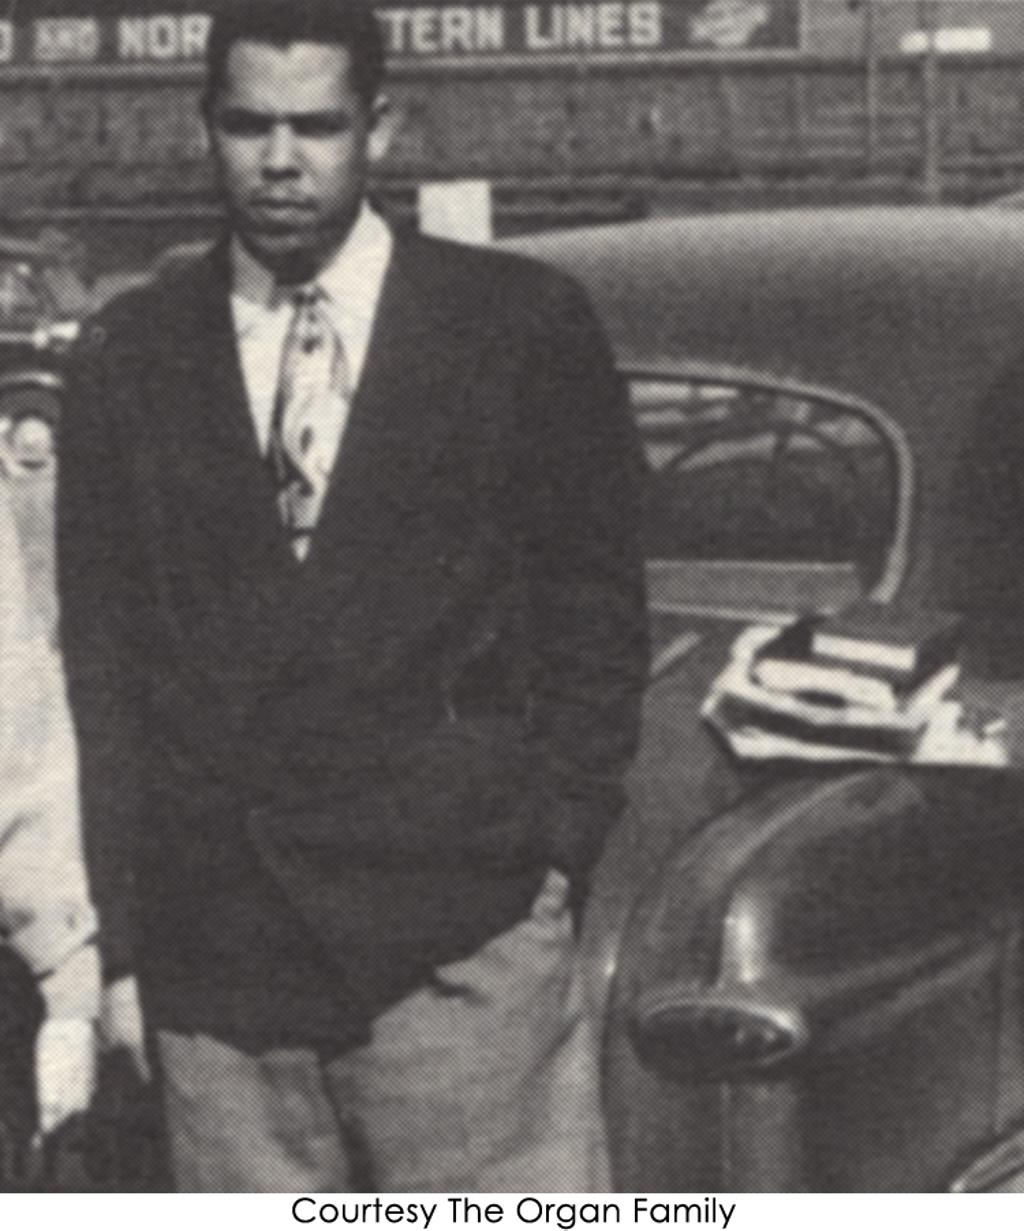face: (216, 46, 365, 255)
